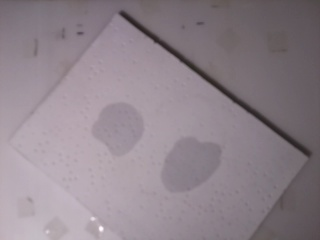Water_detected: (94, 100, 143, 156), (165, 144, 218, 195)
